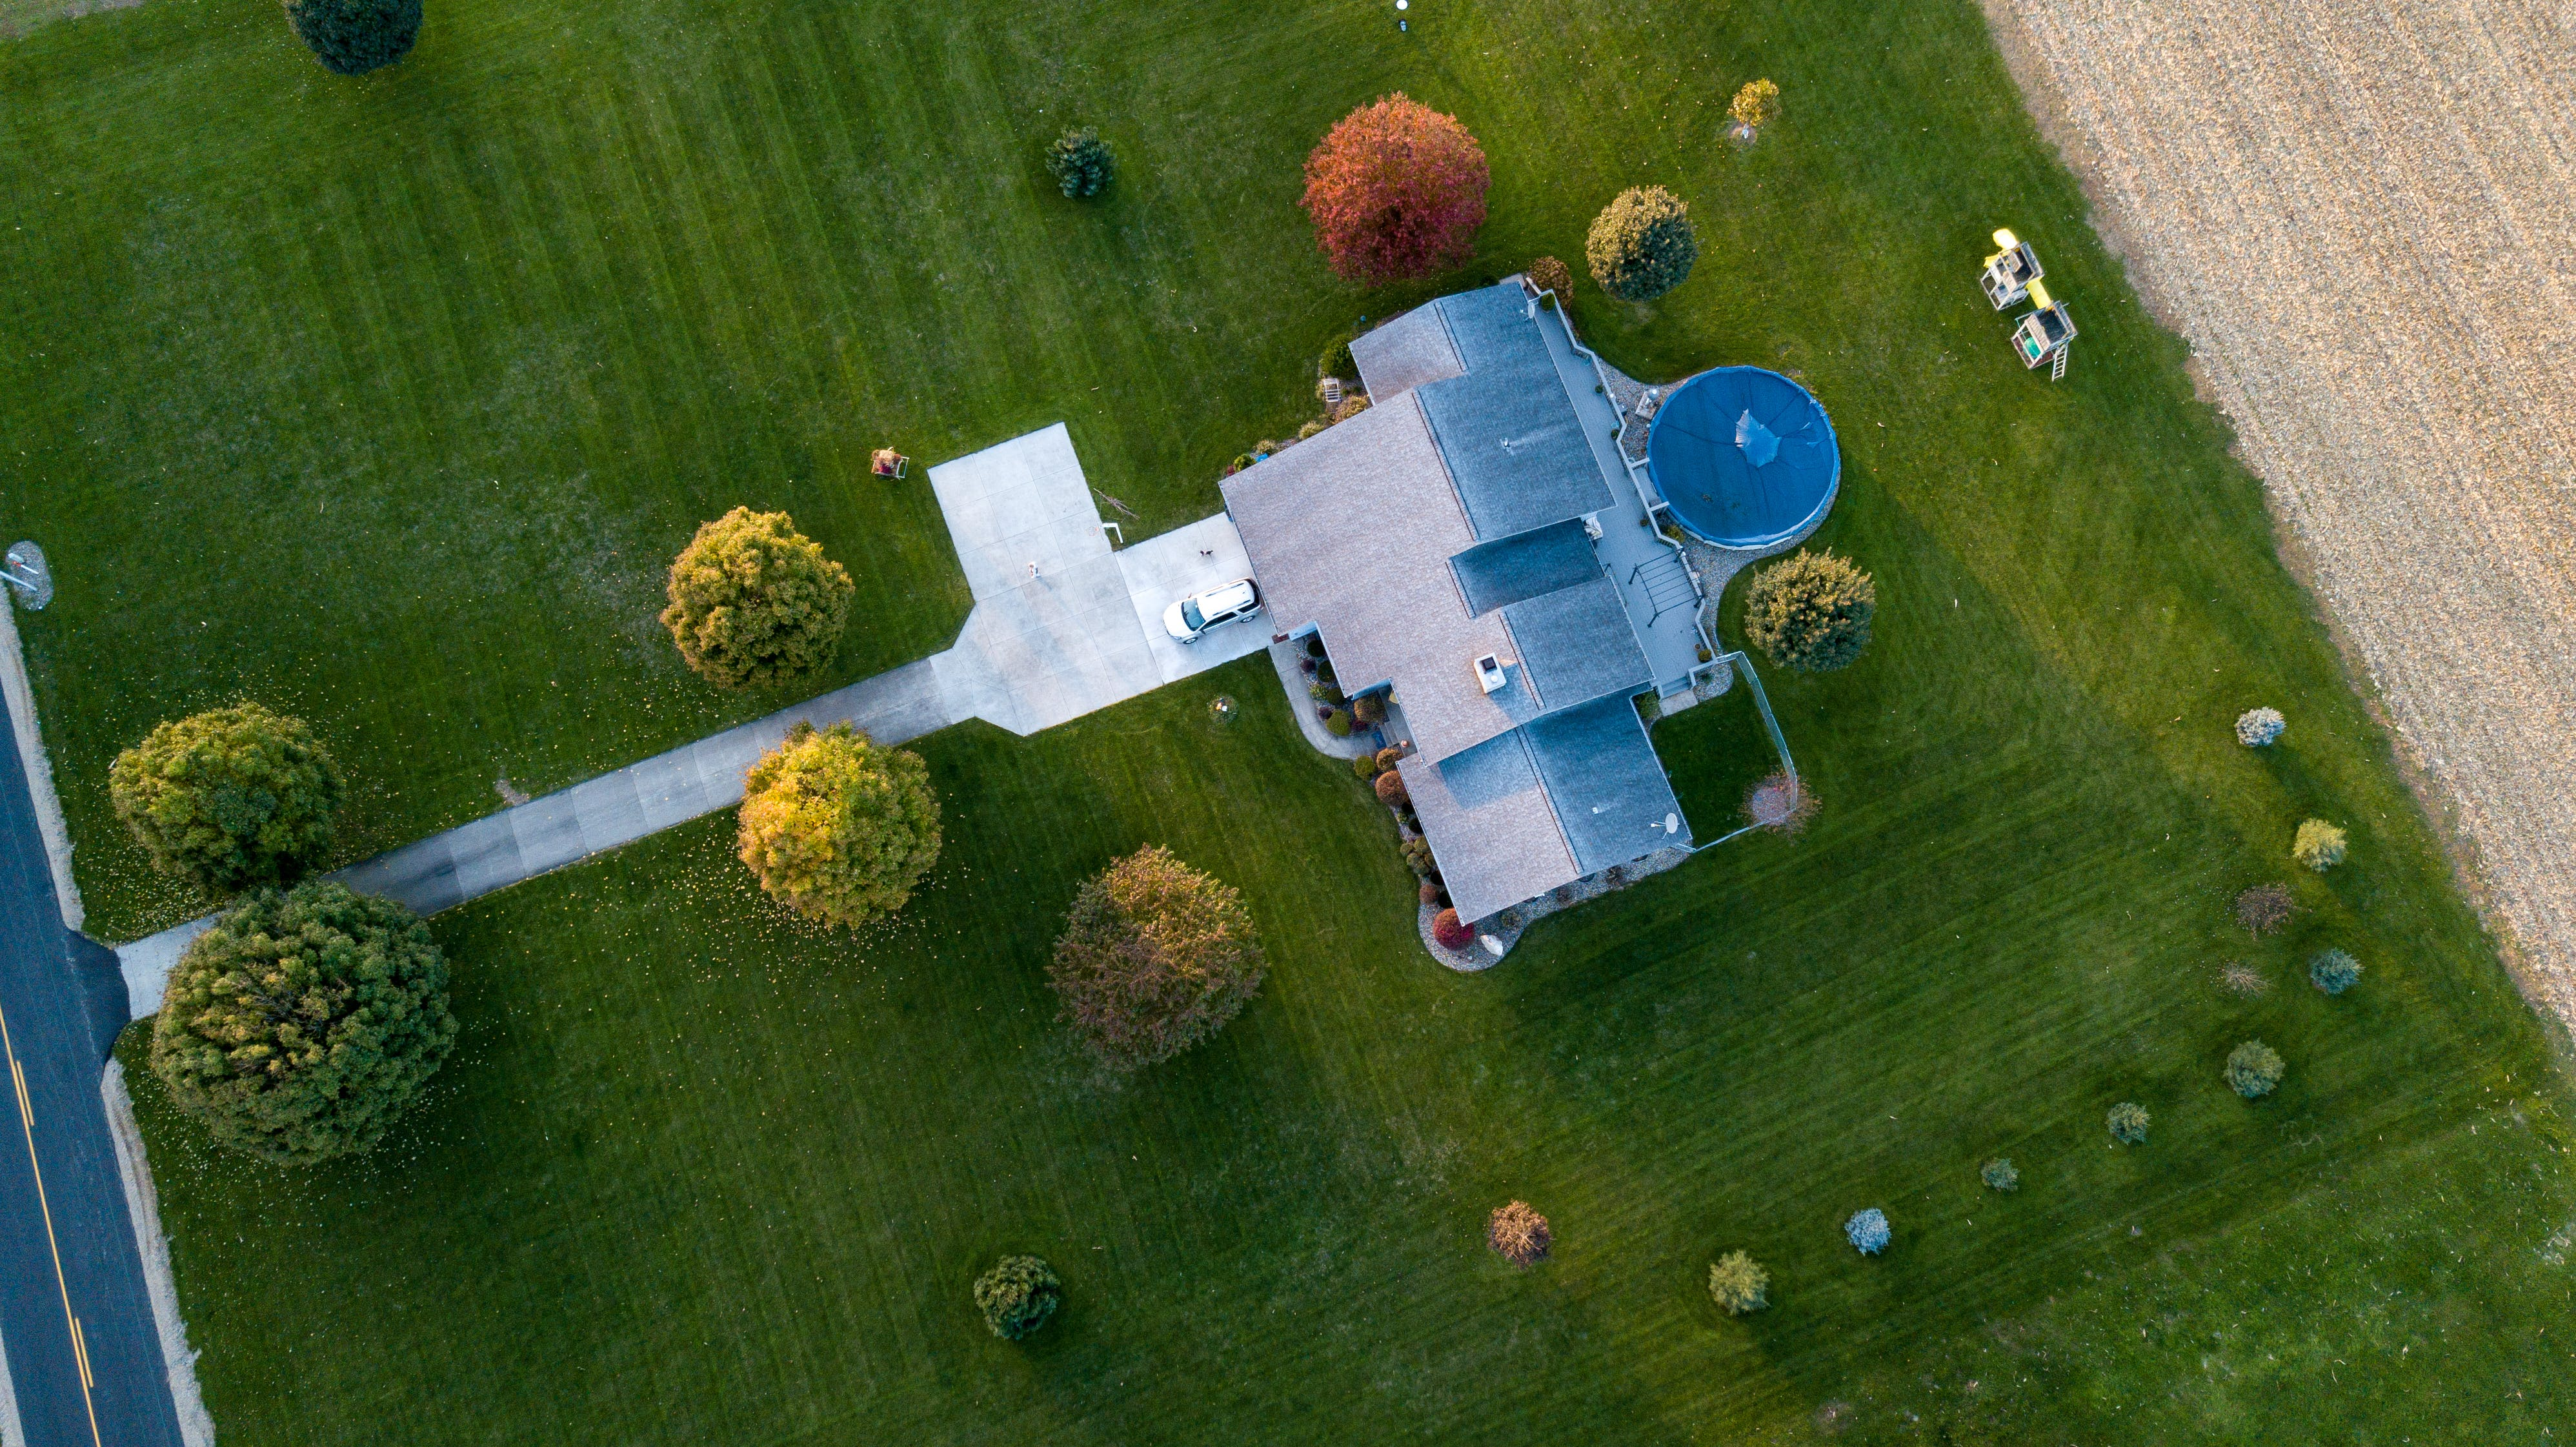build: (1210, 272, 1852, 941), (1978, 234, 2084, 377)
